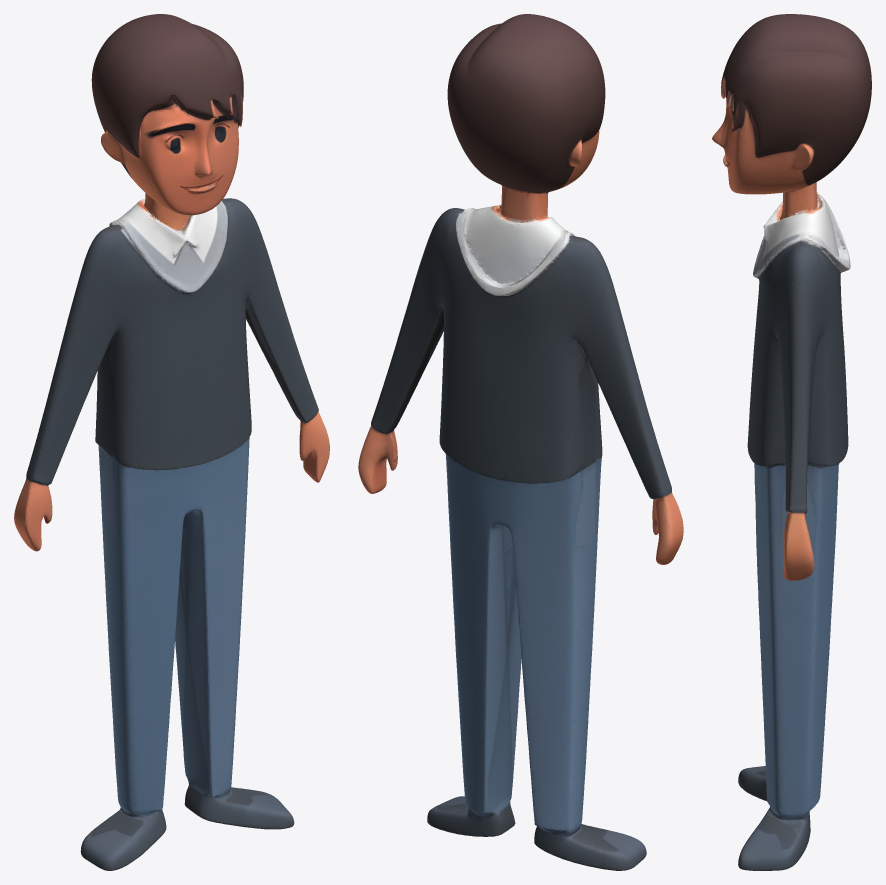
File: base_basic_pbr.fbx
The picture shows the model from 3 angles, left to right: view 1: azimuth 30°, elevation 25°; view 2: azimuth 150°, elevation 25°; view 3: azimuth 270°, elevation 25°; orthographic projection. The views are drawn at different scales.
Parts seen in each view (by area): view 1: model; view 2: model; view 3: model.
Boxes of the visible parts, x1,y1,x2,y2 form: model: (14,14,329,870); model: (358,14,683,870); model: (712,14,871,870).
Size of the model in its own units: 75.4 by 190 by 34.4.
Materials: 1 (1 with a texture image).
